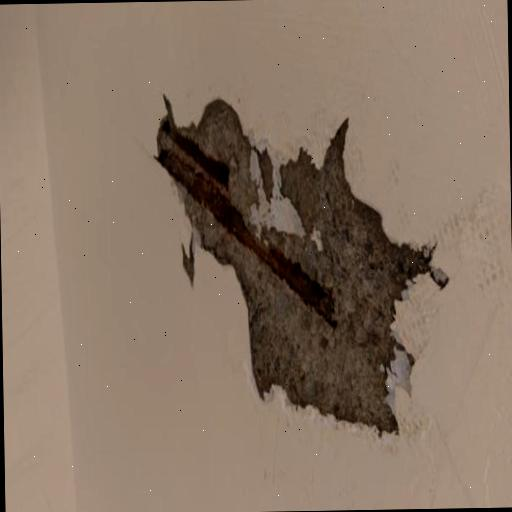spalling: (150, 90, 456, 441)
